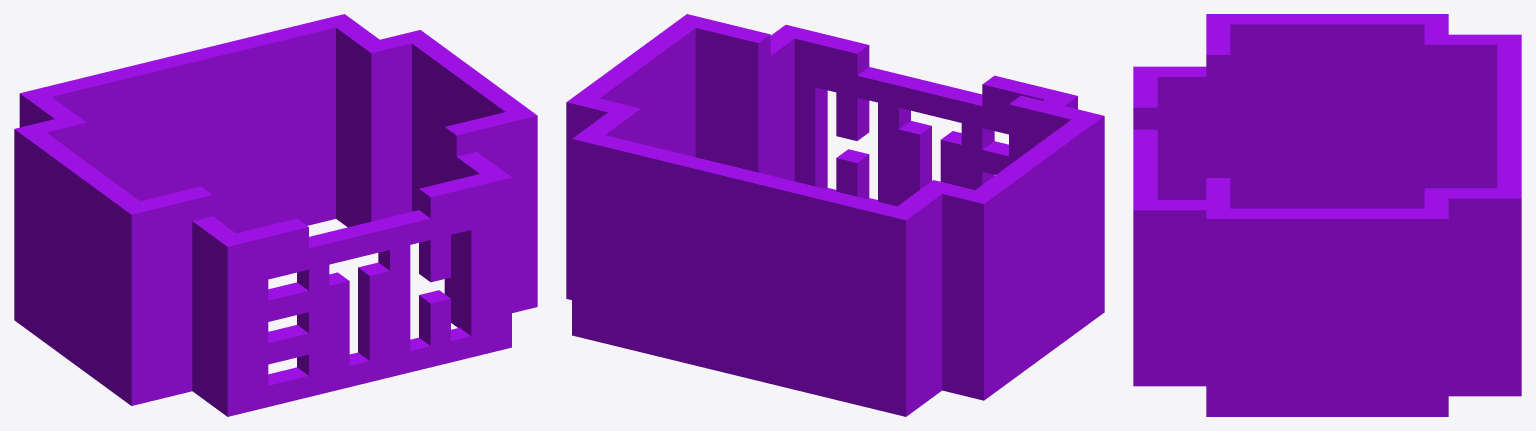
The picture shows the model from 3 angles, left to right: view 1: azimuth 30°, elevation 25°; view 2: azimuth 150°, elevation 25°; view 3: azimuth 270°, elevation 25°; orthographic projection. The views are drawn at different scales.
Parts seen in each view (by area): view 1: 37; view 2: 37; view 3: 37.
Part boxes in pixels (x1,y1,x2,y2): 37: (14,14,537,416); 37: (566,14,1104,416); 37: (1133,14,1521,416).
Bounding box in the file's own units: 200 × 90 × 160.
Materials: 1 (1 with a texture image).
